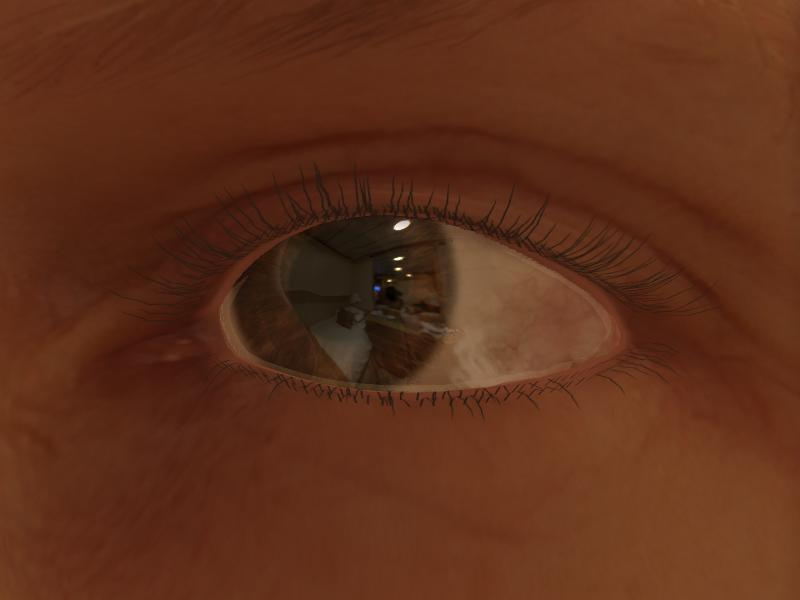eye: (232, 209, 458, 395)
